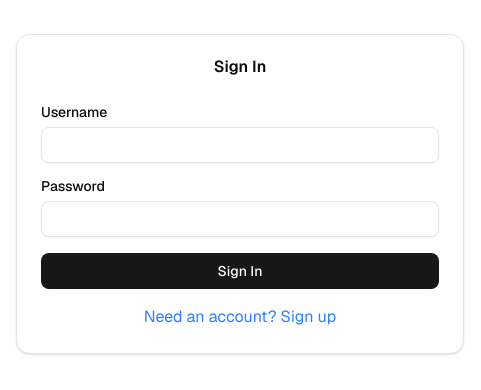
AuthForm › shows error message on failed login
This screenshot has width=481, height=390.
Type "testuser" into the field labelled "Username" at (240, 145), box [41,127,439,163]
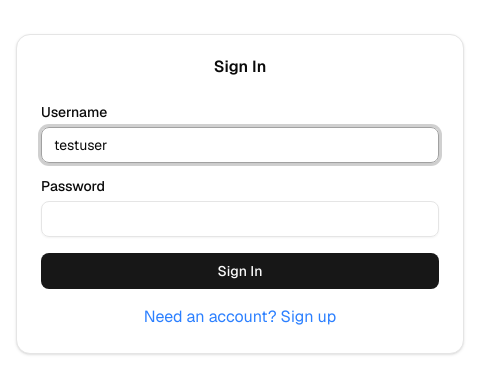
Type "wrongpassword" into the password field labelled "Password" at (240, 219), box [41,201,439,237]
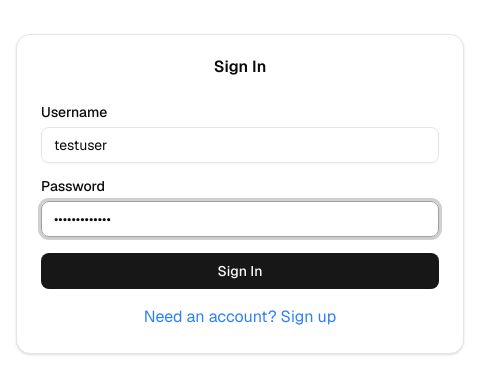
Click the button "Sign In" at (240, 271), box [41,253,439,289]
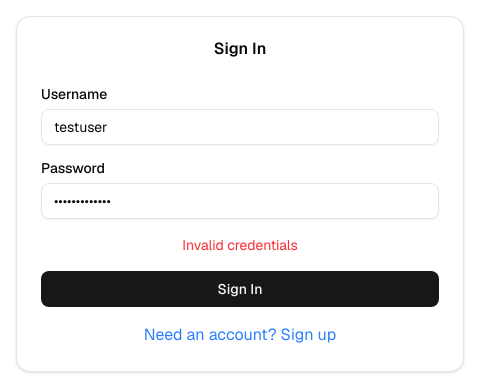
Expected: the text "Invalid credentials" is shown, [182,236,298,254]
